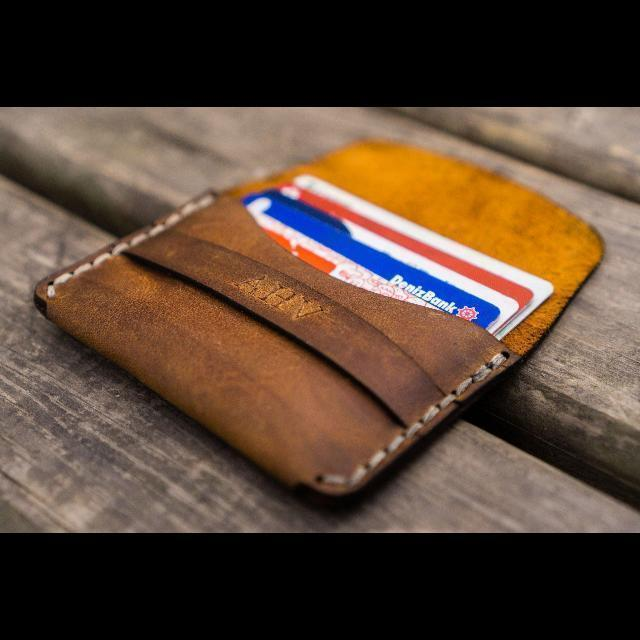wallet: (29, 134, 604, 506)
